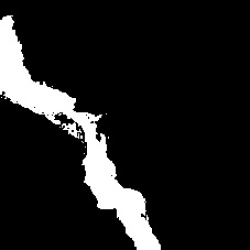crack: (1, 16, 160, 247)
